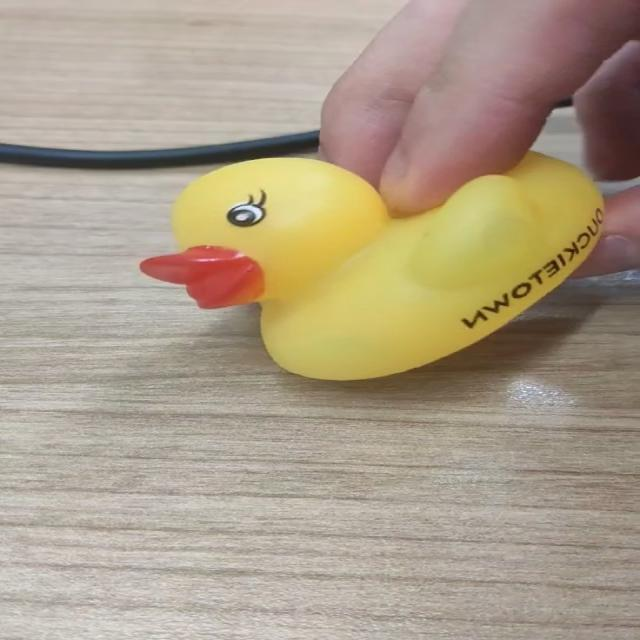rubber-duck: (140, 151, 601, 378)
